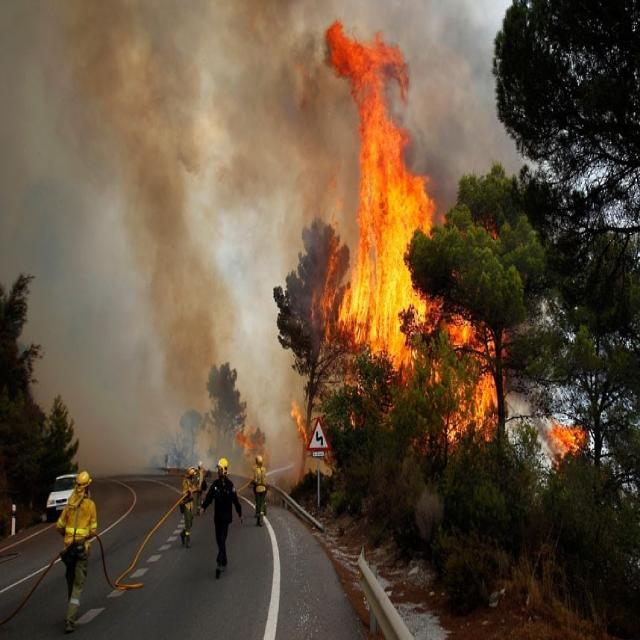Fire: (314, 18, 490, 434), (543, 410, 589, 470)
Smoke: (88, 34, 546, 377)
